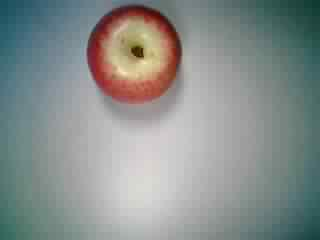apple: (81, 1, 187, 105)
